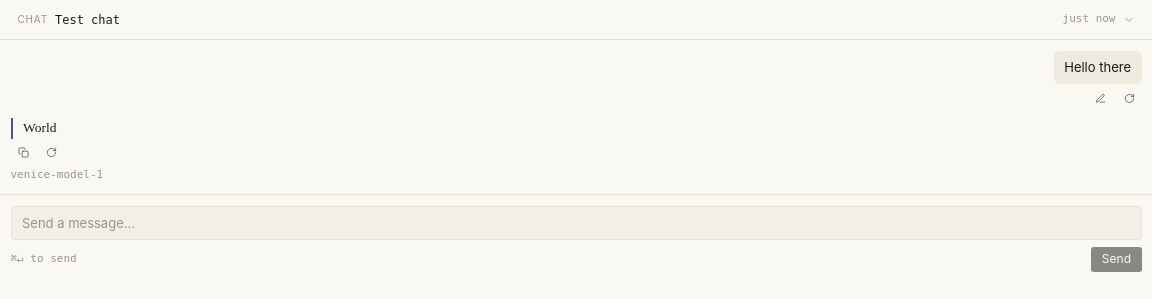
Test: ChatTab — useMessageActions integration › clicking Edit on a user row shows the inline textarea
Click the button named "edit". click: (1100, 98)
box: [1088,89,1113,107]
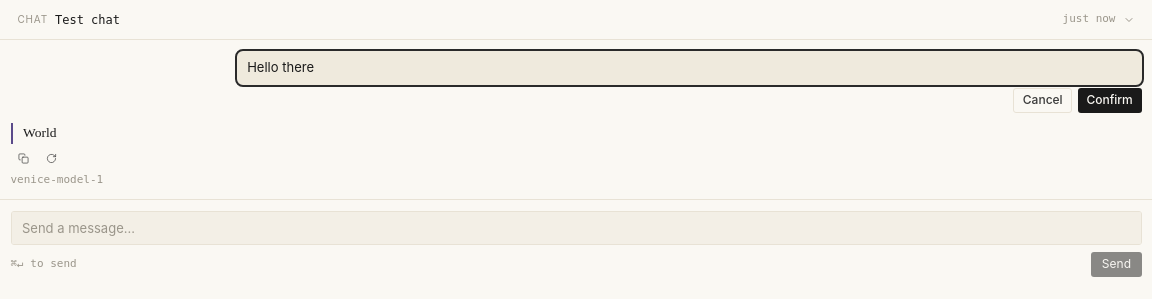
Expected: the text box named "edit message" holds "Hello there", [237,50,1142,84]
